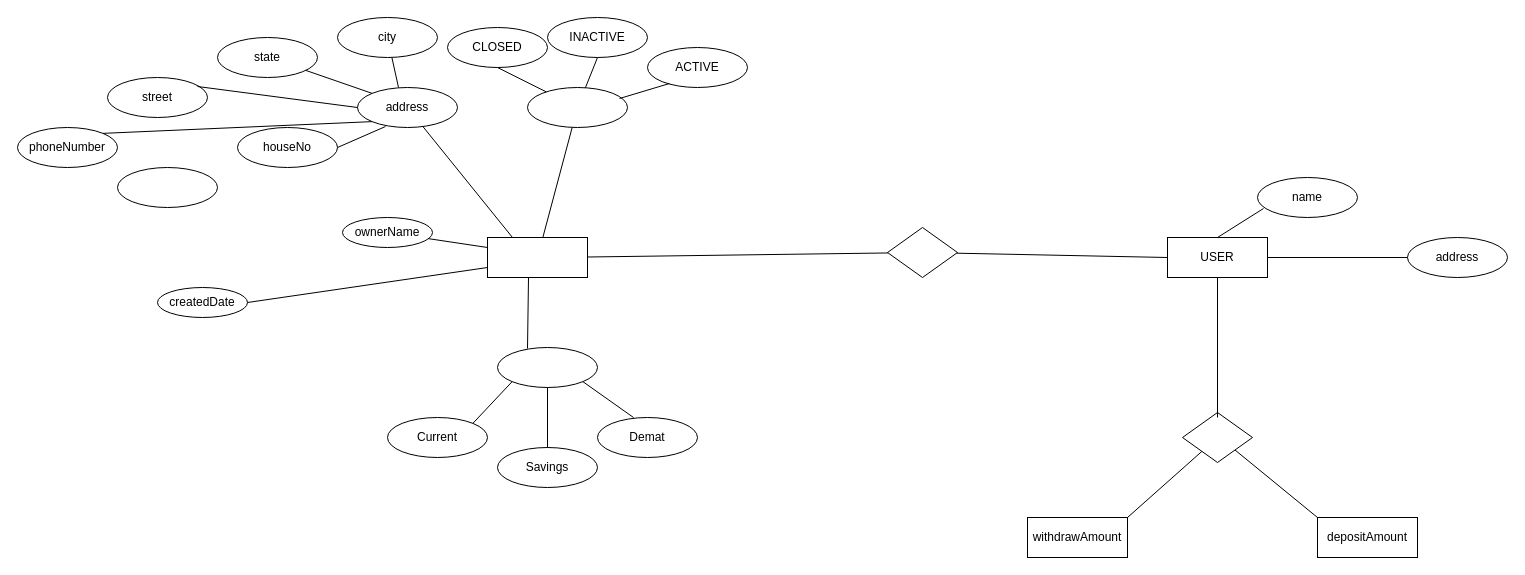
Image size: 1525x575. Some labels were removed from this diagram. Each missing label, with the centre of its shape:
ACCOUNT: the point at 537,257
can: the point at 1217,437
has: the point at 922,252
pincode: the point at 167,187
STATUS: the point at 577,107
TYPE: the point at 547,367
